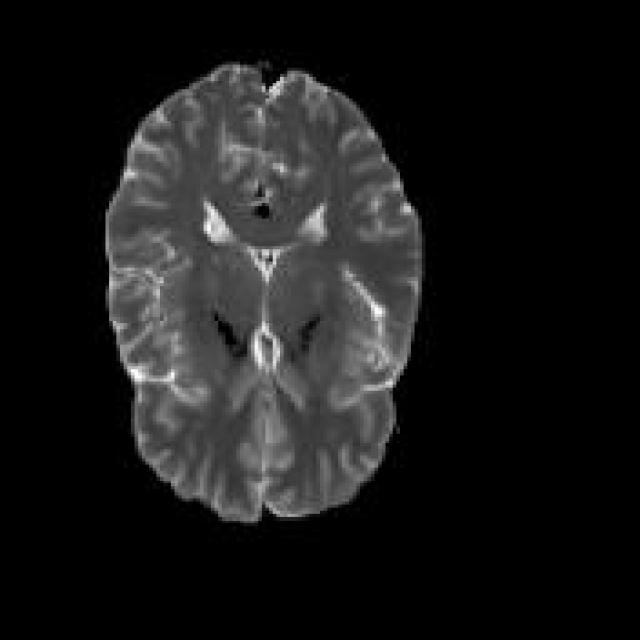CONTROL: (102, 59, 425, 523)
